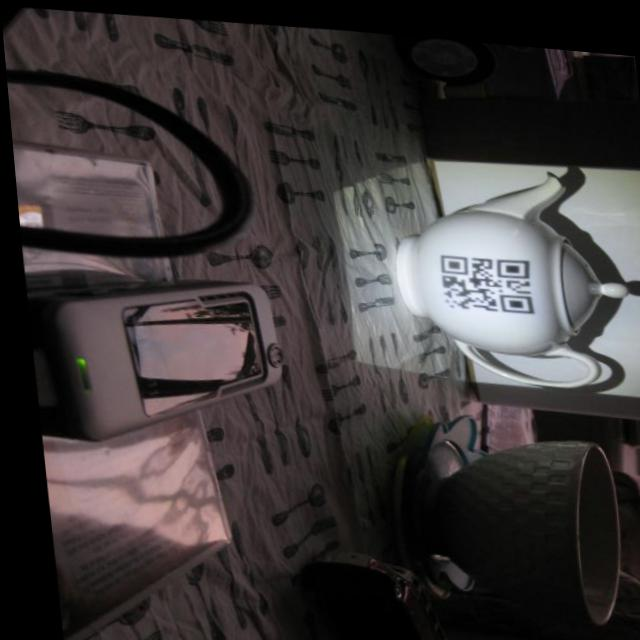qrcode: (435, 246, 529, 306)
